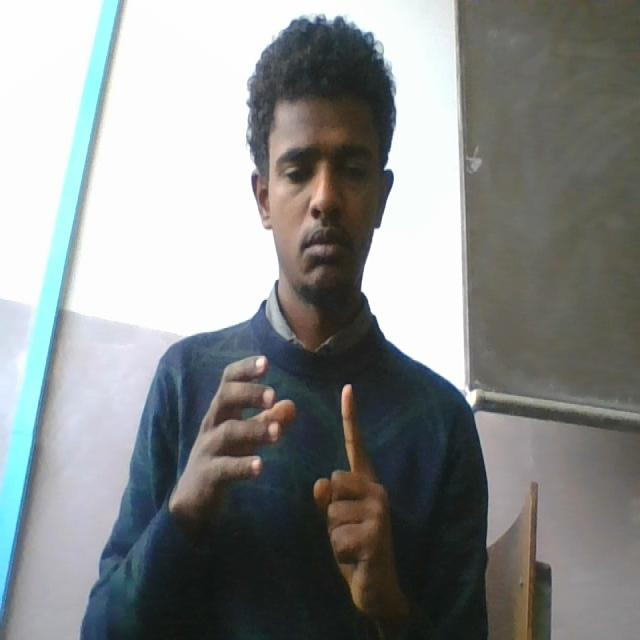melqeq: (173, 347, 407, 617)
